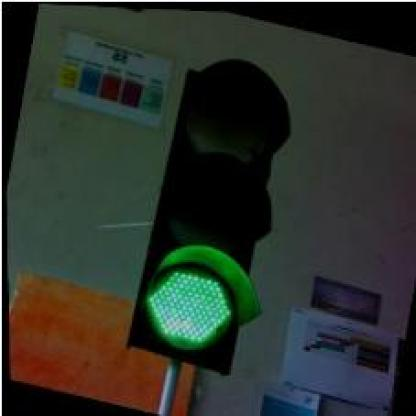green: (115, 38, 306, 376)
